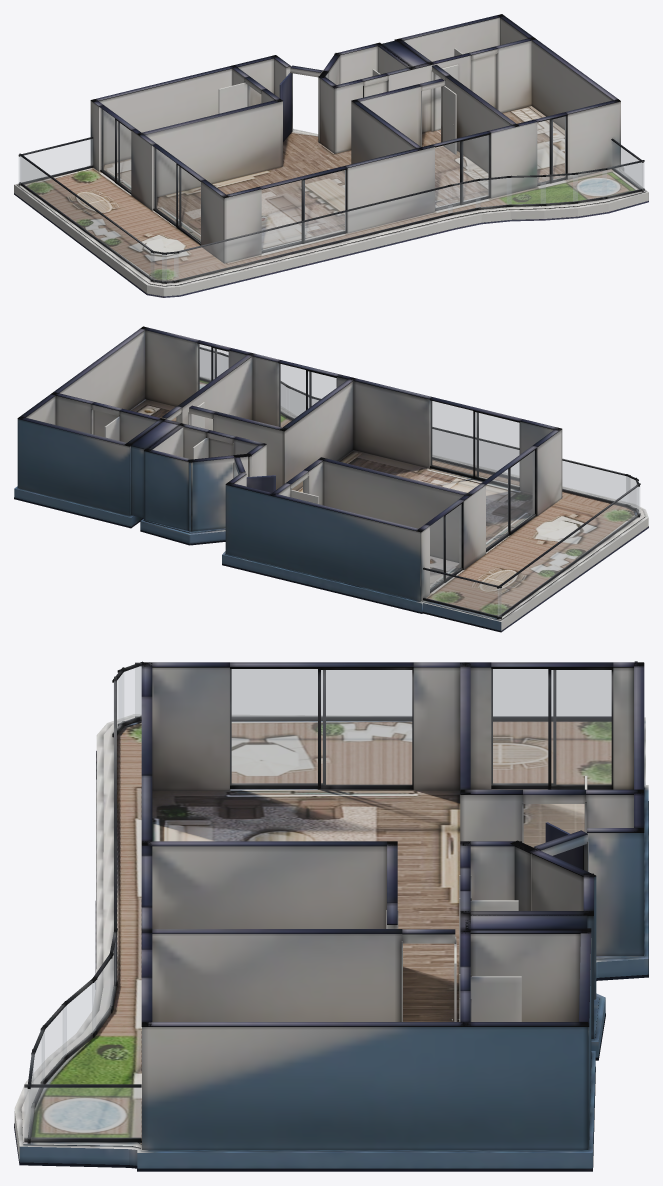
3 renders of one model, top to bottom at view 1: azimuth 30°, elevation 25°; view 2: azimuth 150°, elevation 25°; view 3: azimuth 270°, elevation 25°, orthographic. The views are drawn at different scales.
Visible parts, largest first — view 1: plan, railg1_m, glass2_m, railg3_m, glass3_m, glass0_m, railg0_m, glass1_m, glass4_m, railg4_m, railg7_m, railg6_m (+6 smaller); view 2: plan, glass2_m, railg3_m, railg1_m, glass0_m, railg0_m, glass3_m, glass1_m, glass4_m; view 3: plan, glass0_m, railg3_m, glass1_m, railg2_m, railg7_m, railg6_m, railg11_m, railg8_m.
Part boxes in pixels (<box>): plan: <box>14,14,648,297</box>; railg1_m: <box>174,186,452,280</box>; glass2_m: <box>262,170,345,250</box>; railg3_m: <box>20,157,154,279</box>; glass3_m: <box>435,135,488,208</box>; glass0_m: <box>154,147,200,241</box>; railg0_m: <box>19,139,92,183</box>; glass1_m: <box>101,108,130,190</box>; glass4_m: <box>537,116,565,183</box>; railg4_m: <box>602,162,644,197</box>; railg7_m: <box>507,177,545,204</box>; railg6_m: <box>541,175,577,203</box>; plan: <box>14,326,648,632</box>; glass2_m: <box>430,401,519,486</box>; railg3_m: <box>498,487,639,616</box>; railg1_m: <box>433,429,629,503</box>; glass0_m: <box>486,451,534,549</box>; railg0_m: <box>423,570,501,616</box>; glass3_m: <box>279,364,336,427</box>; glass1_m: <box>430,504,461,590</box>; glass4_m: <box>198,344,228,390</box>; plan: <box>14,661,648,1171</box>; glass0_m: <box>230,669,411,785</box>; railg3_m: <box>135,666,610,716</box>; glass1_m: <box>491,669,611,785</box>; railg2_m: <box>24,1088,141,1138</box>; railg7_m: <box>63,981,95,1057</box>; railg6_m: <box>42,1006,66,1081</box>; railg11_m: <box>119,666,140,723</box>; railg8_m: <box>92,959,112,1033</box>.
Bounding box in the file's own units: 17.25 × 2.62 × 10.54.
2 materials, 1 textured.
